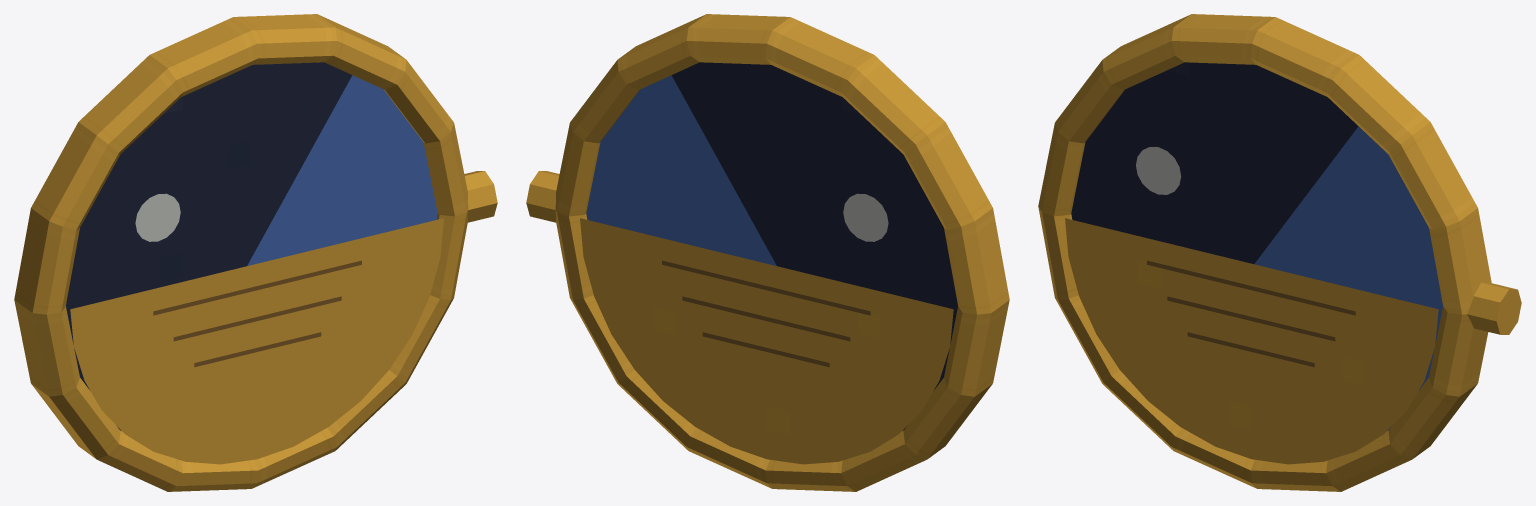
Rendered from clock_22.obj.
3 views of the same model, side by side, from view 1: azimuth 30°, elevation 25°; view 2: azimuth 150°, elevation 25°; view 3: azimuth 330°, elevation 25° (orthographic).
Bounding box in the file's own units: 0.6363 × 0.6037 × 0.075.
